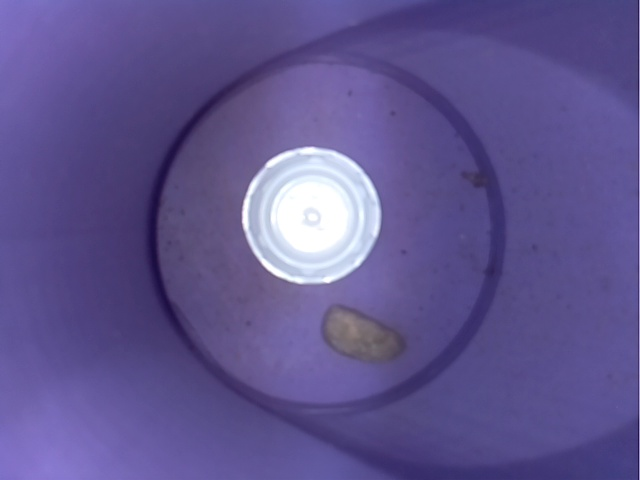bouchon: (229, 137, 400, 302)
caillou: (311, 301, 413, 369)
